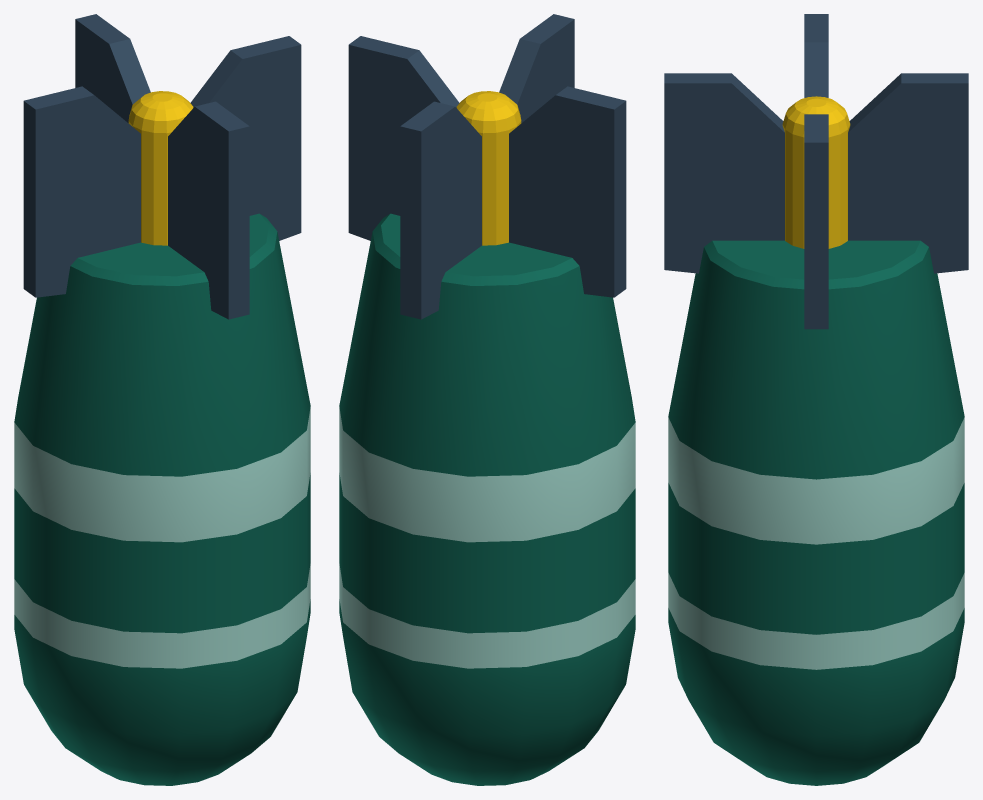
Rendered from Bomb.fbx.
3 renders of one model, left to right at view 1: azimuth 30°, elevation 25°; view 2: azimuth 150°, elevation 25°; view 3: azimuth 270°, elevation 25°, orthographic.
Visible parts, largest first — view 1: Bomb; view 2: Bomb; view 3: Bomb.
Part boxes in pixels (x1,y1,x2,y2): Bomb: [14, 14, 310, 785]; Bomb: [339, 14, 635, 785]; Bomb: [664, 14, 968, 785].
Bounding box in the file's own units: 0.6742 × 1.68 × 0.6742.
